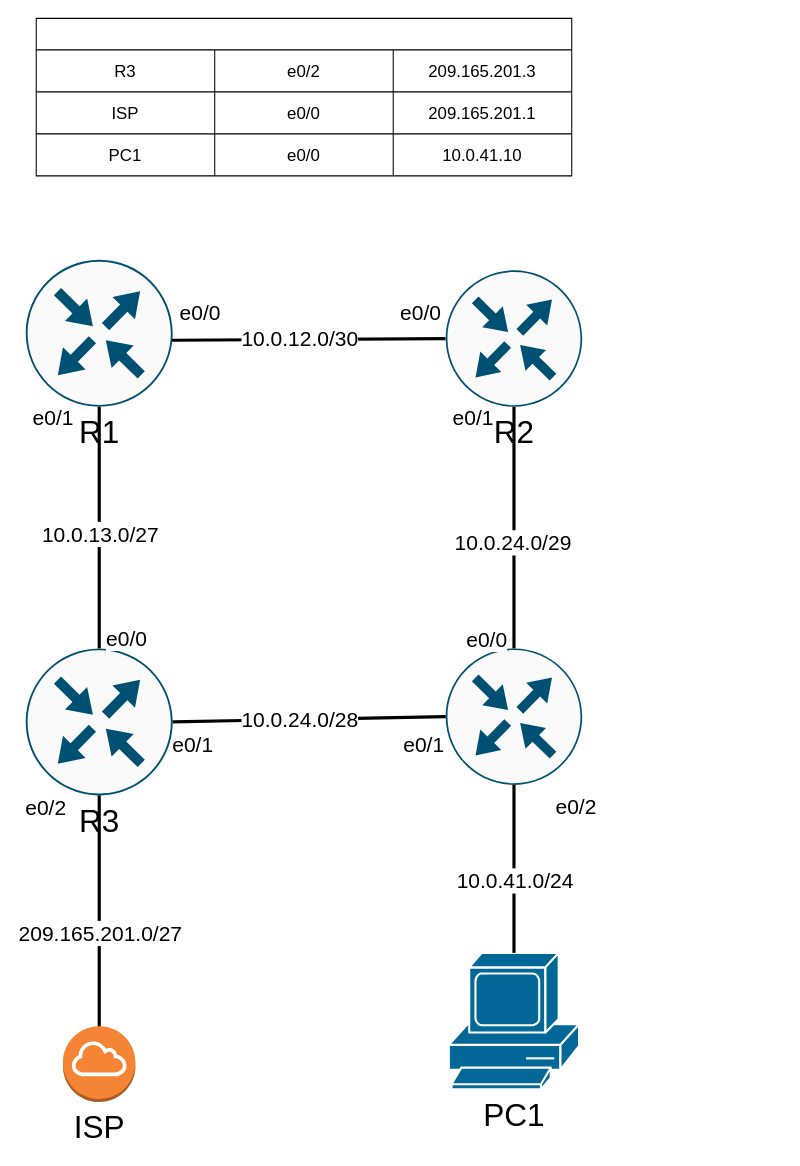
Image size: 800x1166. Some labels were removed from this diagram. The box of each missing label's shape, as (x1, y1, x2, y2) in pixels:
Device Interface IP Address: (35, 17, 572, 176)
R4: (445, 647, 582, 785)
